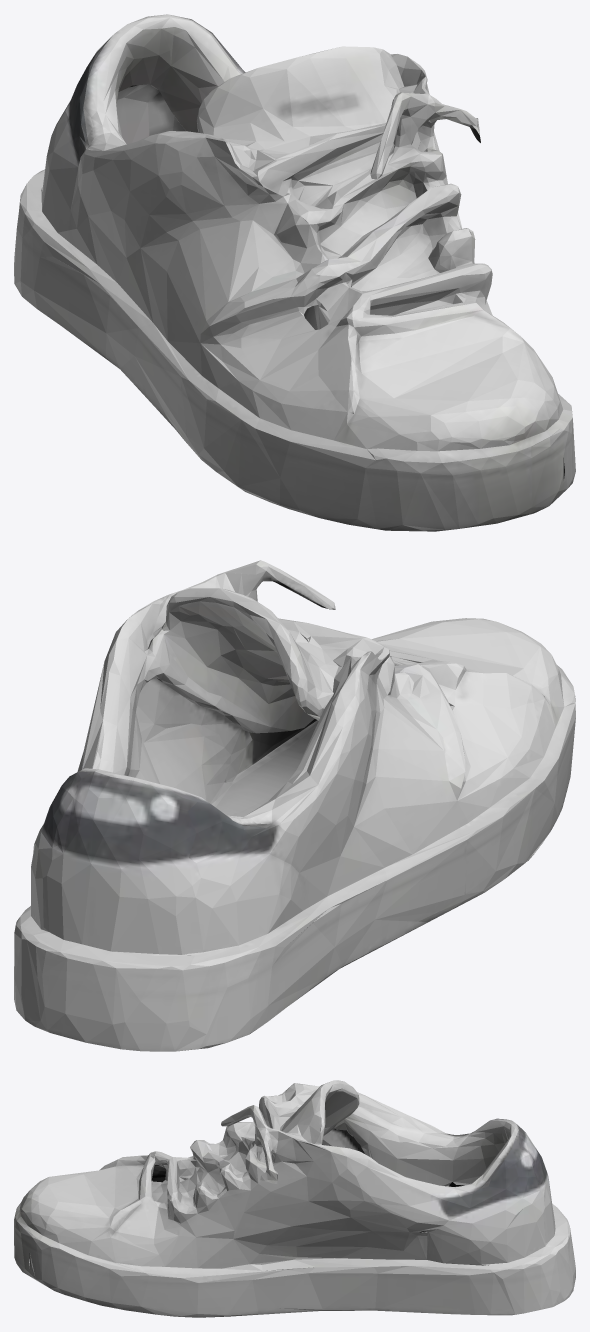
3 views of the same model, one above another, from view 1: azimuth 30°, elevation 25°; view 2: azimuth 150°, elevation 25°; view 3: azimuth 270°, elevation 25° (orthographic). The views are drawn at different scales.
Parts seen in each view (by area): view 1: geometry_0; view 2: geometry_0; view 3: geometry_0.
Part boxes in pixels (x1=…): geometry_0: x1=14, y1=14, x2=575, y2=531; geometry_0: x1=14, y1=560, x2=575, y2=1051; geometry_0: x1=14, y1=1080, x2=575, y2=1317.
Size of the model in its own units: 0.4212 by 0.4004 by 0.9977.
Materials: 1 (1 with a texture image).
